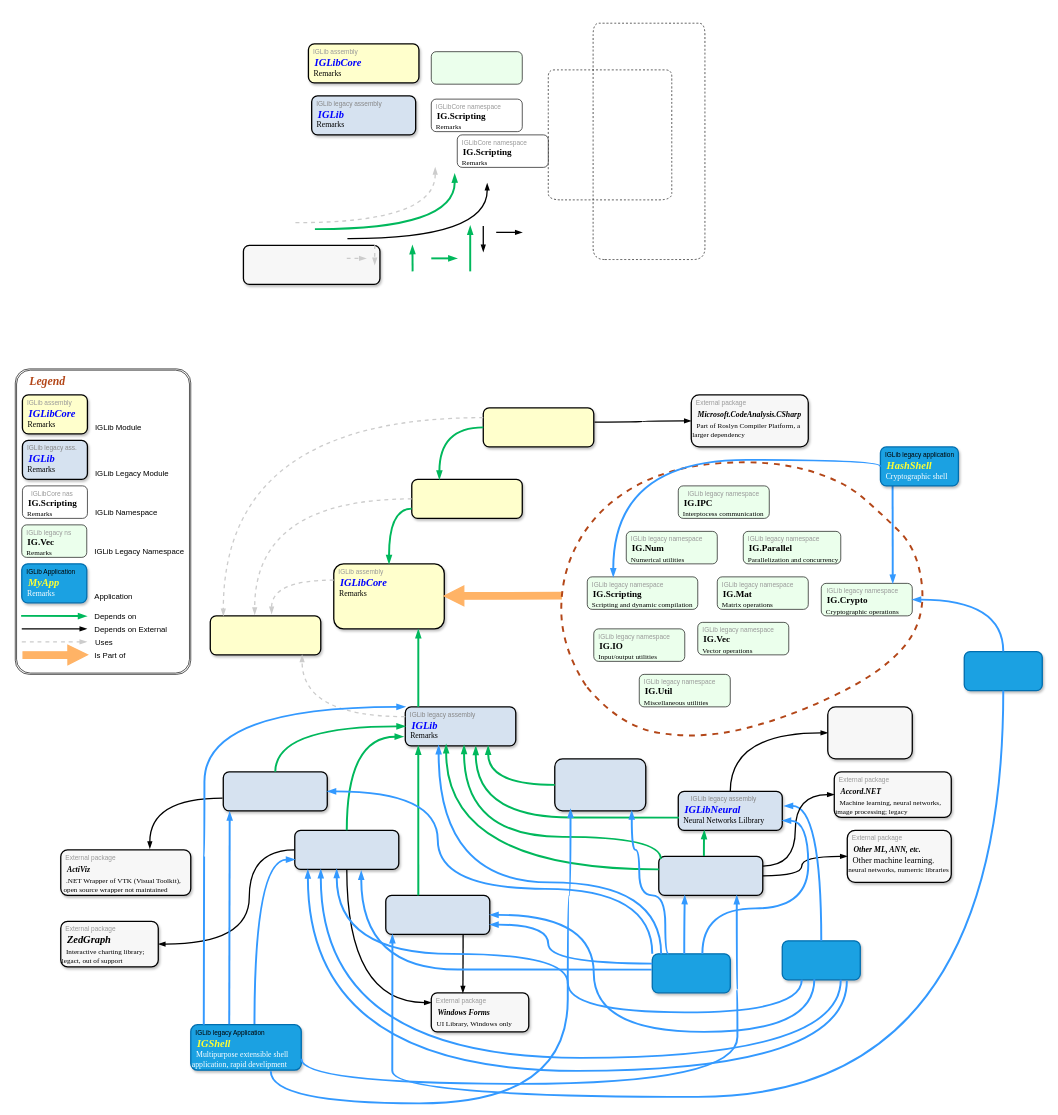
The diagram is 1058 pixels wide and 1115 high, and some of its shapes have lost their labels. Each missing label, with the centre of its shape:
"External package AForge.NET Machine learning, image processing, legacy" goes at point 870,733.
"External package Microsoft.CodeAnalysis.CSharp Remarks" goes at point 312,265.
"IGLib Application AnnApp Exploring" goes at point 691,974.
"IGLib assembly IGLibScripting Remarks" goes at point 467,499.
"IGLib assembly IGLibScriptingCs Remarks" goes at point 539,428.
"IGLib assembly IGLibScripts Remarks" goes at point 266,636.
"IGLib legacy application HashForm Remarks" goes at point 1003,672.
"IGLib legacy application NeurApp Remarks" goes at point 821,961.
"IGLib legacy assembly IGForms UI Library (Windows only)" goes at point 438,915.
"IGLib legacy assembly IGLibExt Extensions that do not fit to IGLib" goes at point 600,785.
"IGLib legacy assembly IGLibNeuralExt Remarks" goes at point 711,876.
"IGLib legacy assembly IGLibPlot2D 2D Charting library" goes at point 347,850.
"IGLib legacy assembly IGLibPlot3D 3D plotting library" goes at point 276,792.
"IGLib legacy namespace IG.Vec Remarks" goes at point 476,67.
